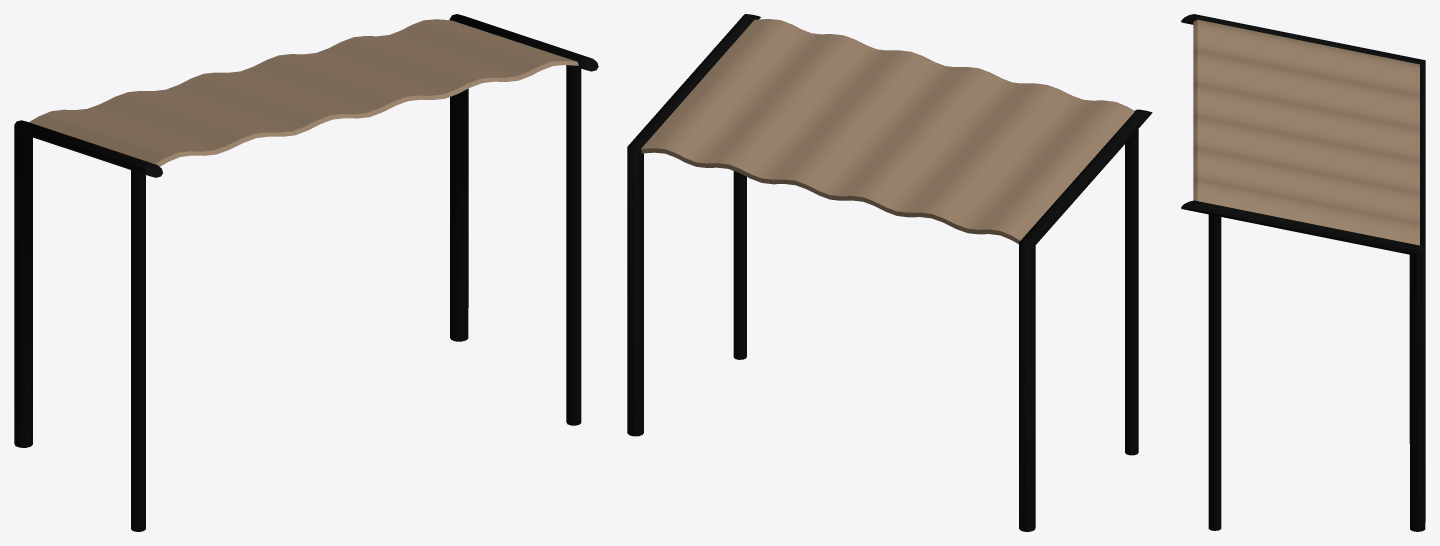
File: BusStop.fbx
The picture shows the model from 3 angles, left to right: view 1: azimuth 30°, elevation 25°; view 2: azimuth 150°, elevation 25°; view 3: azimuth 270°, elevation 25°; orthographic projection. The views are drawn at different scales.
Parts seen in each view (by area): view 1: polySurface63; view 2: polySurface63; view 3: polySurface63.
Boxes of the visible parts, x1,y1,x2,y2 form: polySurface63: [14, 14, 598, 531]; polySurface63: [627, 14, 1152, 531]; polySurface63: [1181, 14, 1425, 531].
Size of the model in its own units: 9.79 by 7.8 by 5.23.
